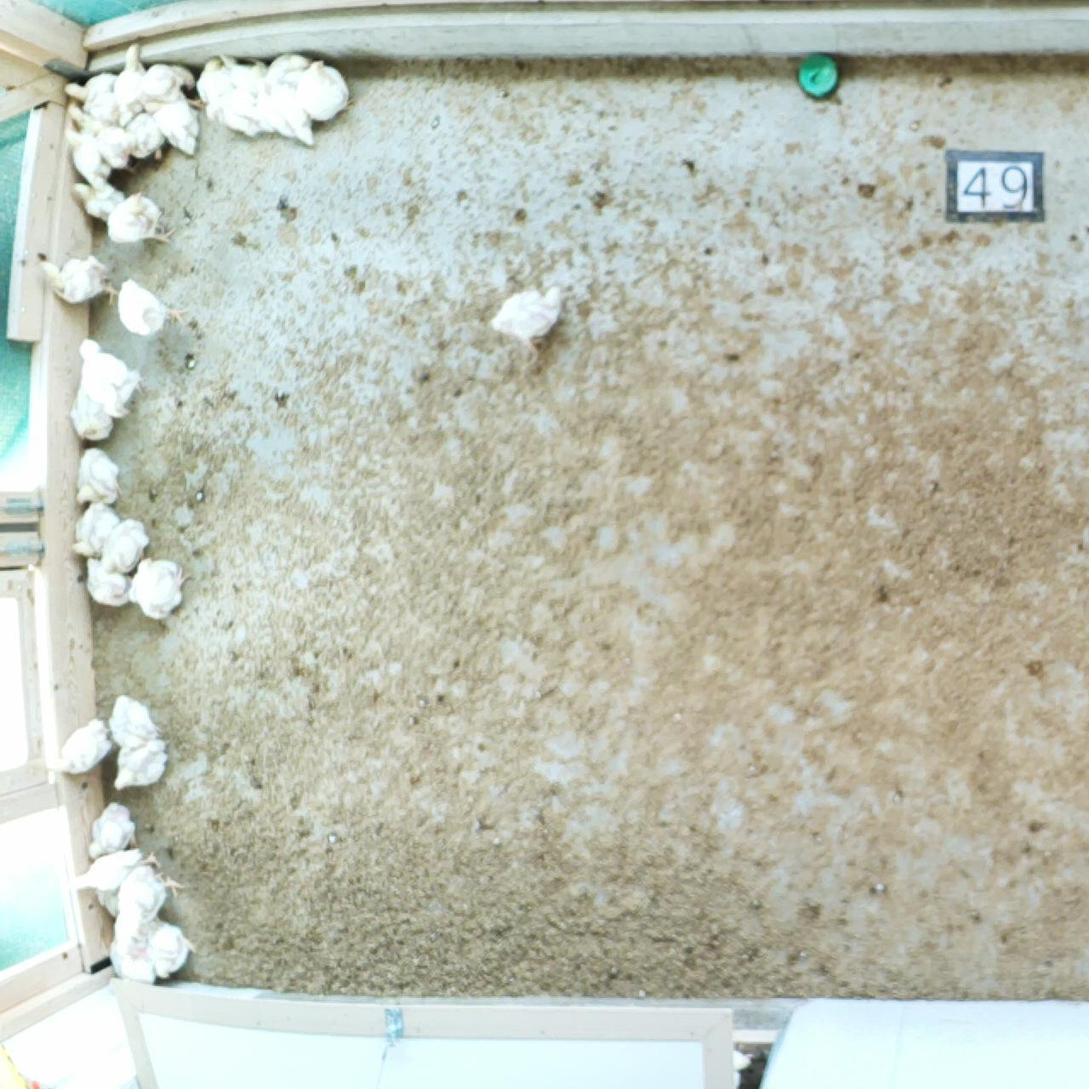chicken: (486, 281, 568, 361), (76, 335, 147, 416), (35, 247, 124, 304), (114, 866, 183, 937), (111, 275, 190, 337), (123, 553, 194, 621), (68, 843, 160, 895), (103, 186, 179, 247), (294, 55, 359, 123), (45, 716, 110, 781), (145, 911, 200, 985), (109, 735, 171, 794), (63, 119, 112, 191), (148, 100, 203, 162), (71, 496, 120, 564), (73, 446, 124, 511), (87, 800, 137, 866), (99, 515, 152, 577), (108, 691, 162, 750), (105, 929, 159, 987), (60, 67, 124, 114), (276, 80, 318, 150), (83, 555, 137, 609), (70, 388, 120, 446), (93, 122, 143, 176), (112, 42, 146, 116), (253, 81, 294, 139), (144, 60, 199, 103), (70, 180, 127, 220), (220, 50, 271, 92), (124, 111, 166, 161), (203, 105, 261, 136), (194, 54, 226, 104), (271, 49, 313, 86), (65, 100, 101, 135), (223, 86, 260, 116)
